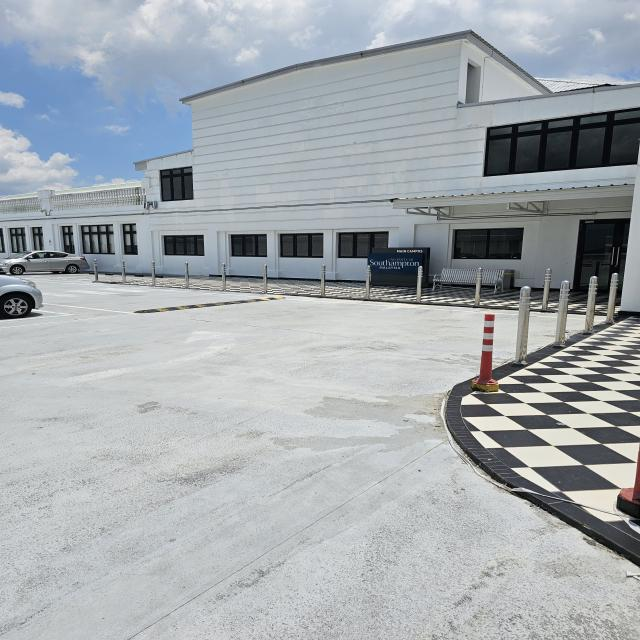door: (571, 217, 630, 296)
footpath: (17, 326, 452, 640)
obstacle: (468, 310, 502, 395), (428, 266, 514, 294), (515, 287, 538, 364)
